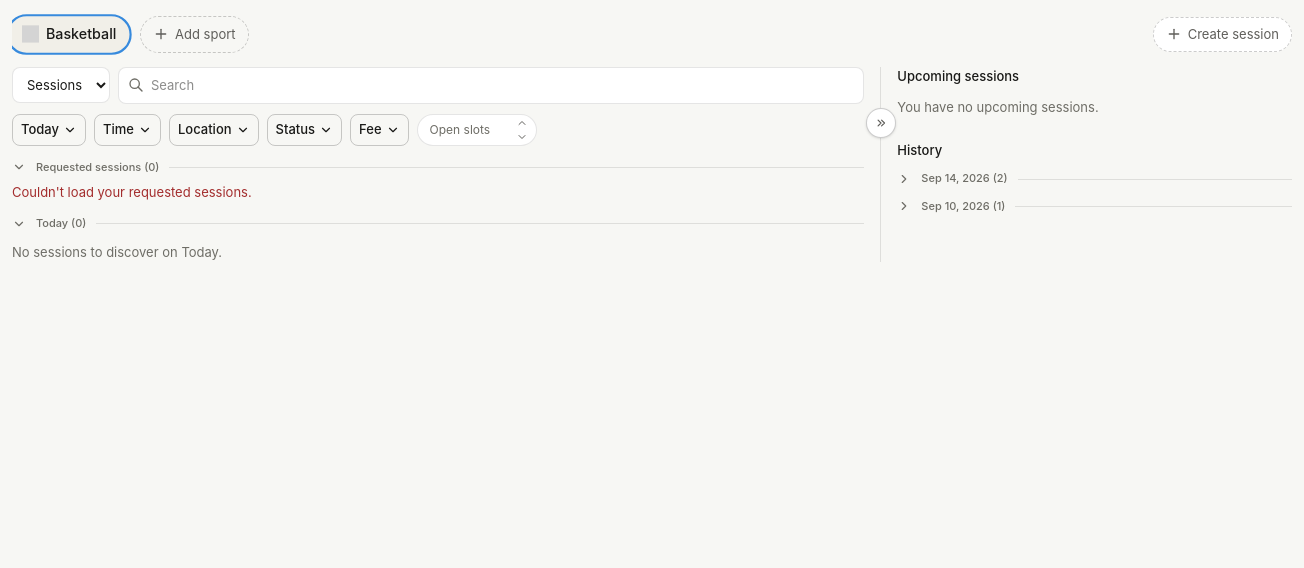
MatchesPage › renders the History section as collapsed "<date> (<count>)" rows, and expanding one lazily loads that date's sessions
Expected: the button with aria-label "Expand Sep 10, 2026 (1)" is shown, top-left (897, 199), bottom-right (1292, 214)
Expected: the text "Morning run" is not shown
Click the button with aria-label "Expand Sep 14, 2026 (2)".
click(964, 178)  # box top-left (897, 171), bottom-right (1292, 187)
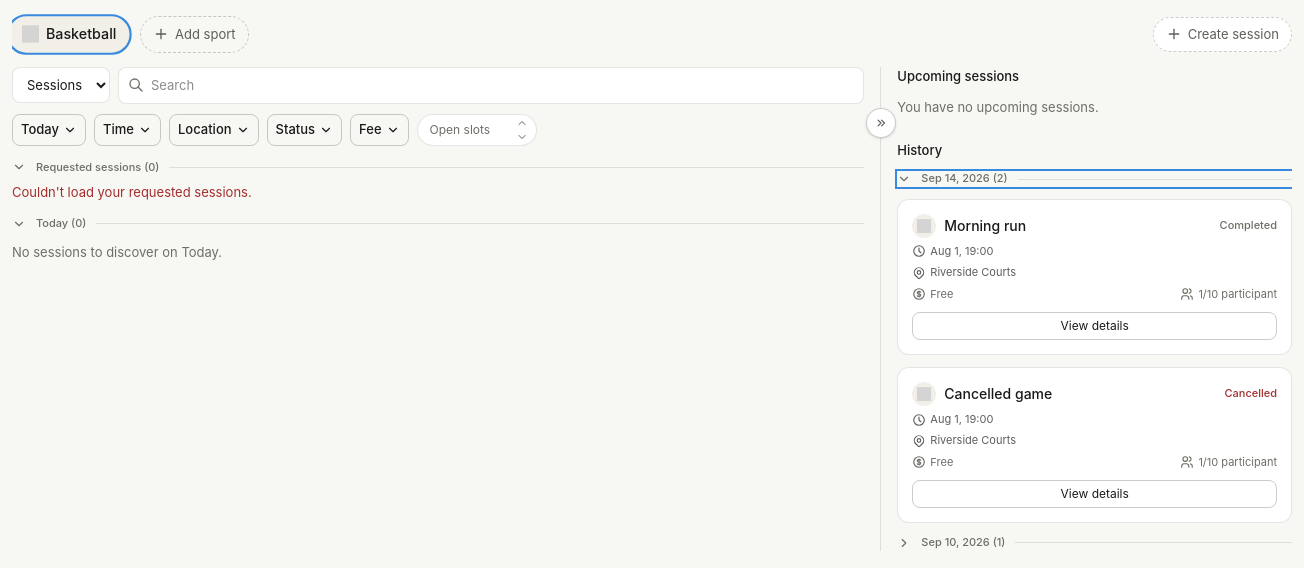
Expected: the text "Morning run" is shown, top-left (944, 217), bottom-right (1026, 234)
Expected: the text "Cancelled game" is shown, top-left (944, 385), bottom-right (1052, 402)
Click the button with aria-label "Collapse Sep 14, 2026 (2)".
click(964, 178)  # box top-left (897, 171), bottom-right (1292, 187)
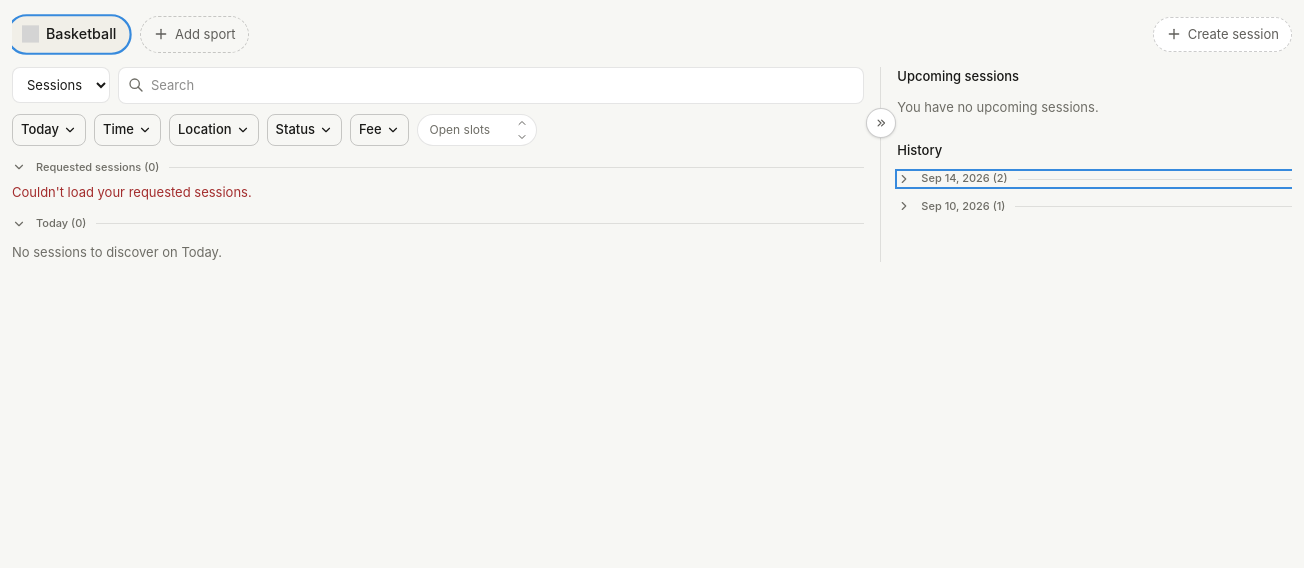
Expected: the text "Morning run" is gone
